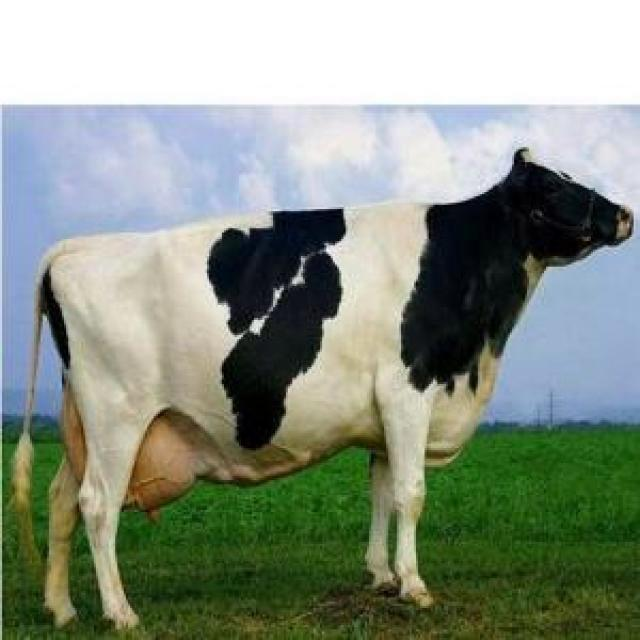cow: (14, 150, 634, 628)
